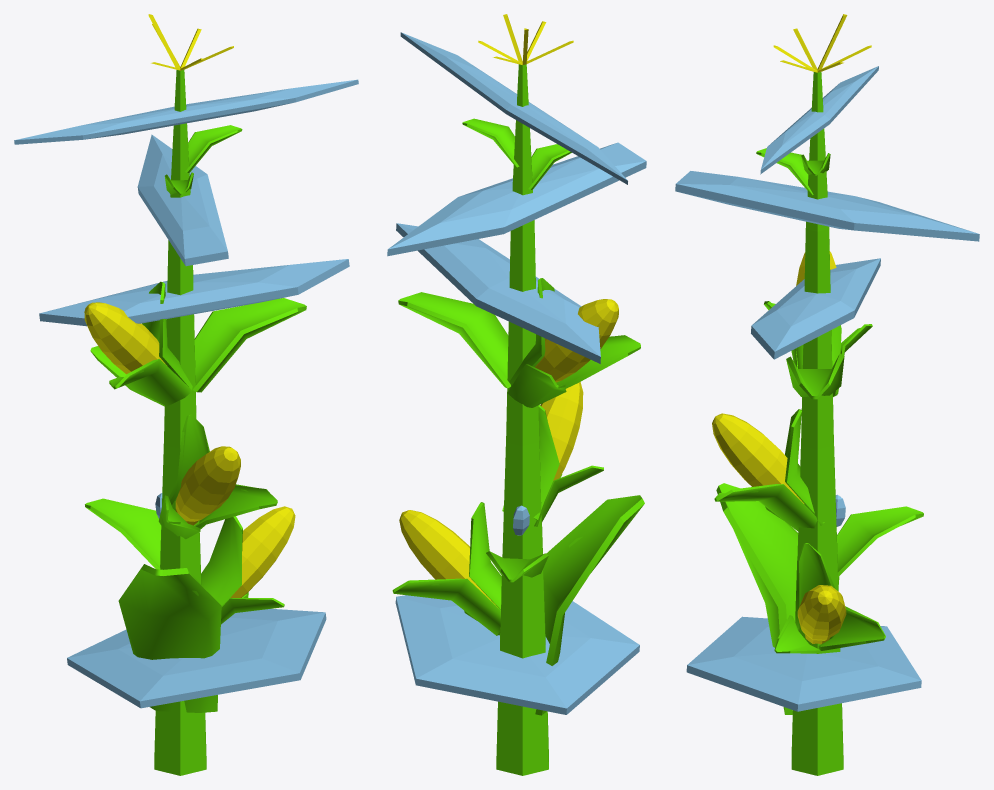
File: Blighted_Corn_Stage_3.fbx
3 renders of one model, left to right at view 1: azimuth 30°, elevation 25°; view 2: azimuth 150°, elevation 25°; view 3: azimuth 270°, elevation 25°, orthographic.
Visible parts, largest first — view 1: Blighted_Corn_Stage_3; view 2: Blighted_Corn_Stage_3; view 3: Blighted_Corn_Stage_3.
Boxes of the visible parts, <box> form: Blighted_Corn_Stage_3: <box>14,14,358,775</box>; Blighted_Corn_Stage_3: <box>387,14,646,775</box>; Blighted_Corn_Stage_3: <box>675,14,979,775</box>.
Bounding box in the file's own units: 0.9983 × 2.48 × 0.926.
